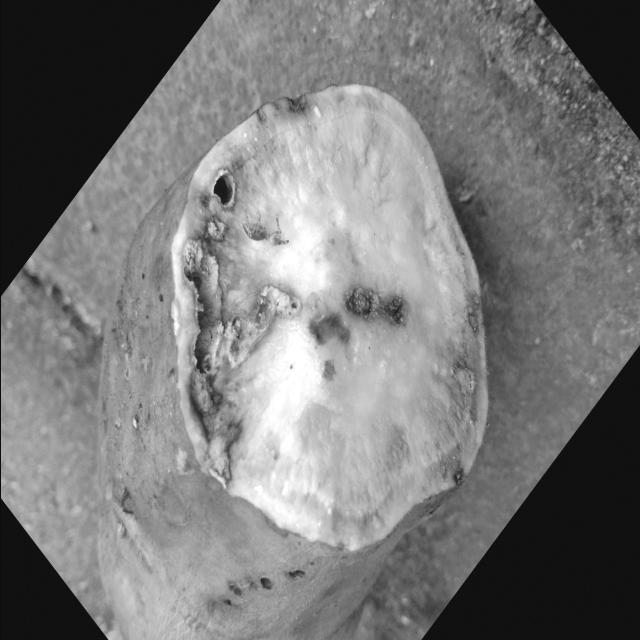Sick Sweet Potato_Tuber Rot: (171, 85, 488, 550)
